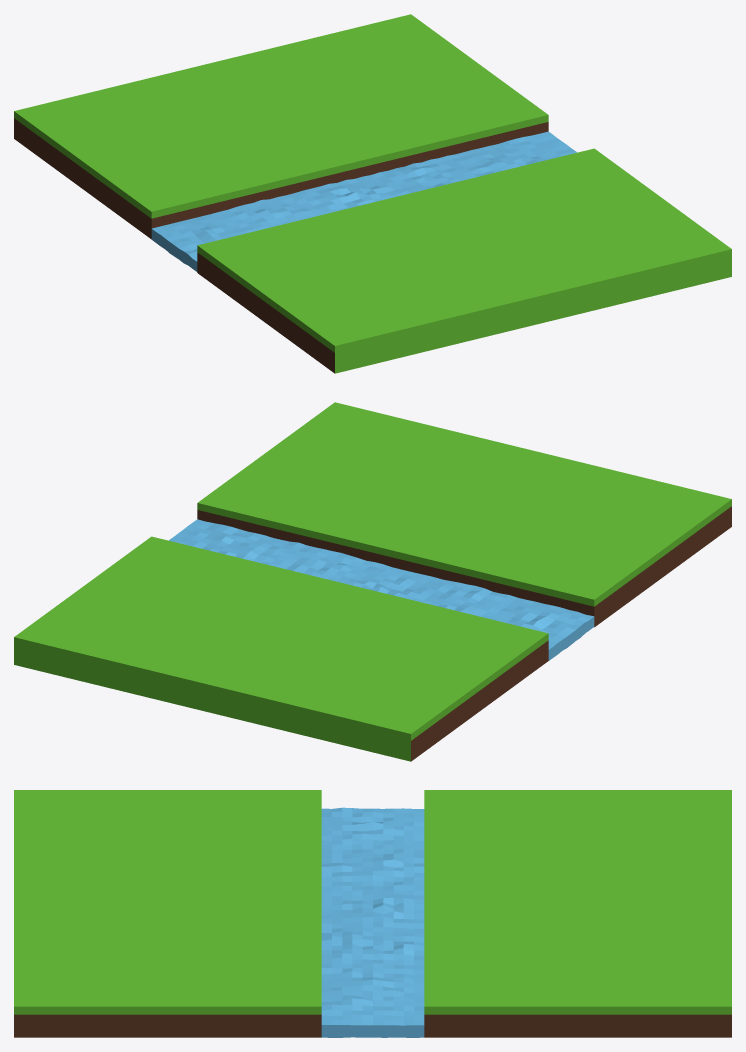
Rendered from Platforma.fbx.
3 views of the same model, one above another, from view 1: azimuth 30°, elevation 25°; view 2: azimuth 150°, elevation 25°; view 3: azimuth 270°, elevation 25° (orthographic). The views are drawn at different scales.
Visible parts, largest first — view 1: Cube.002; view 2: Cube.002; view 3: Cube.002.
Part boxes in pixels (x1,y1,x2,y2): Cube.002: [14, 14, 731, 373]; Cube.002: [14, 402, 731, 761]; Cube.002: [14, 790, 731, 1037].
Size of the model in its own units: 3600 by 246 by 5040.
